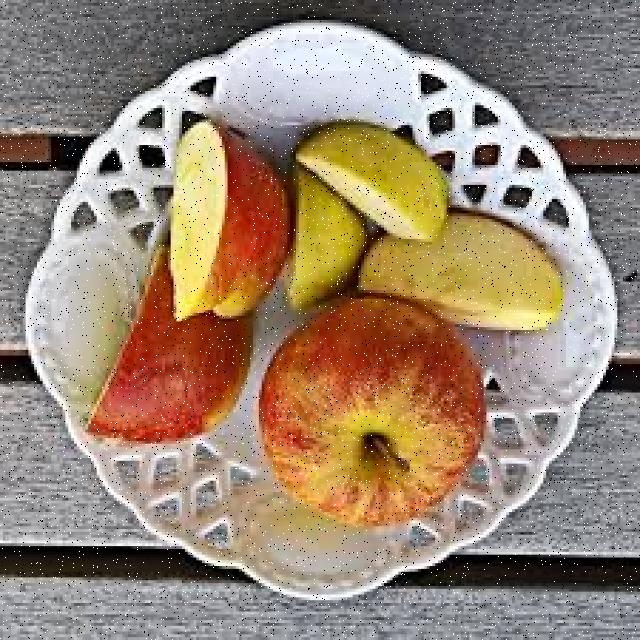Apple: (259, 309, 479, 527), (88, 272, 252, 446), (172, 127, 288, 320), (356, 232, 558, 322), (313, 124, 442, 244), (290, 183, 356, 311)
